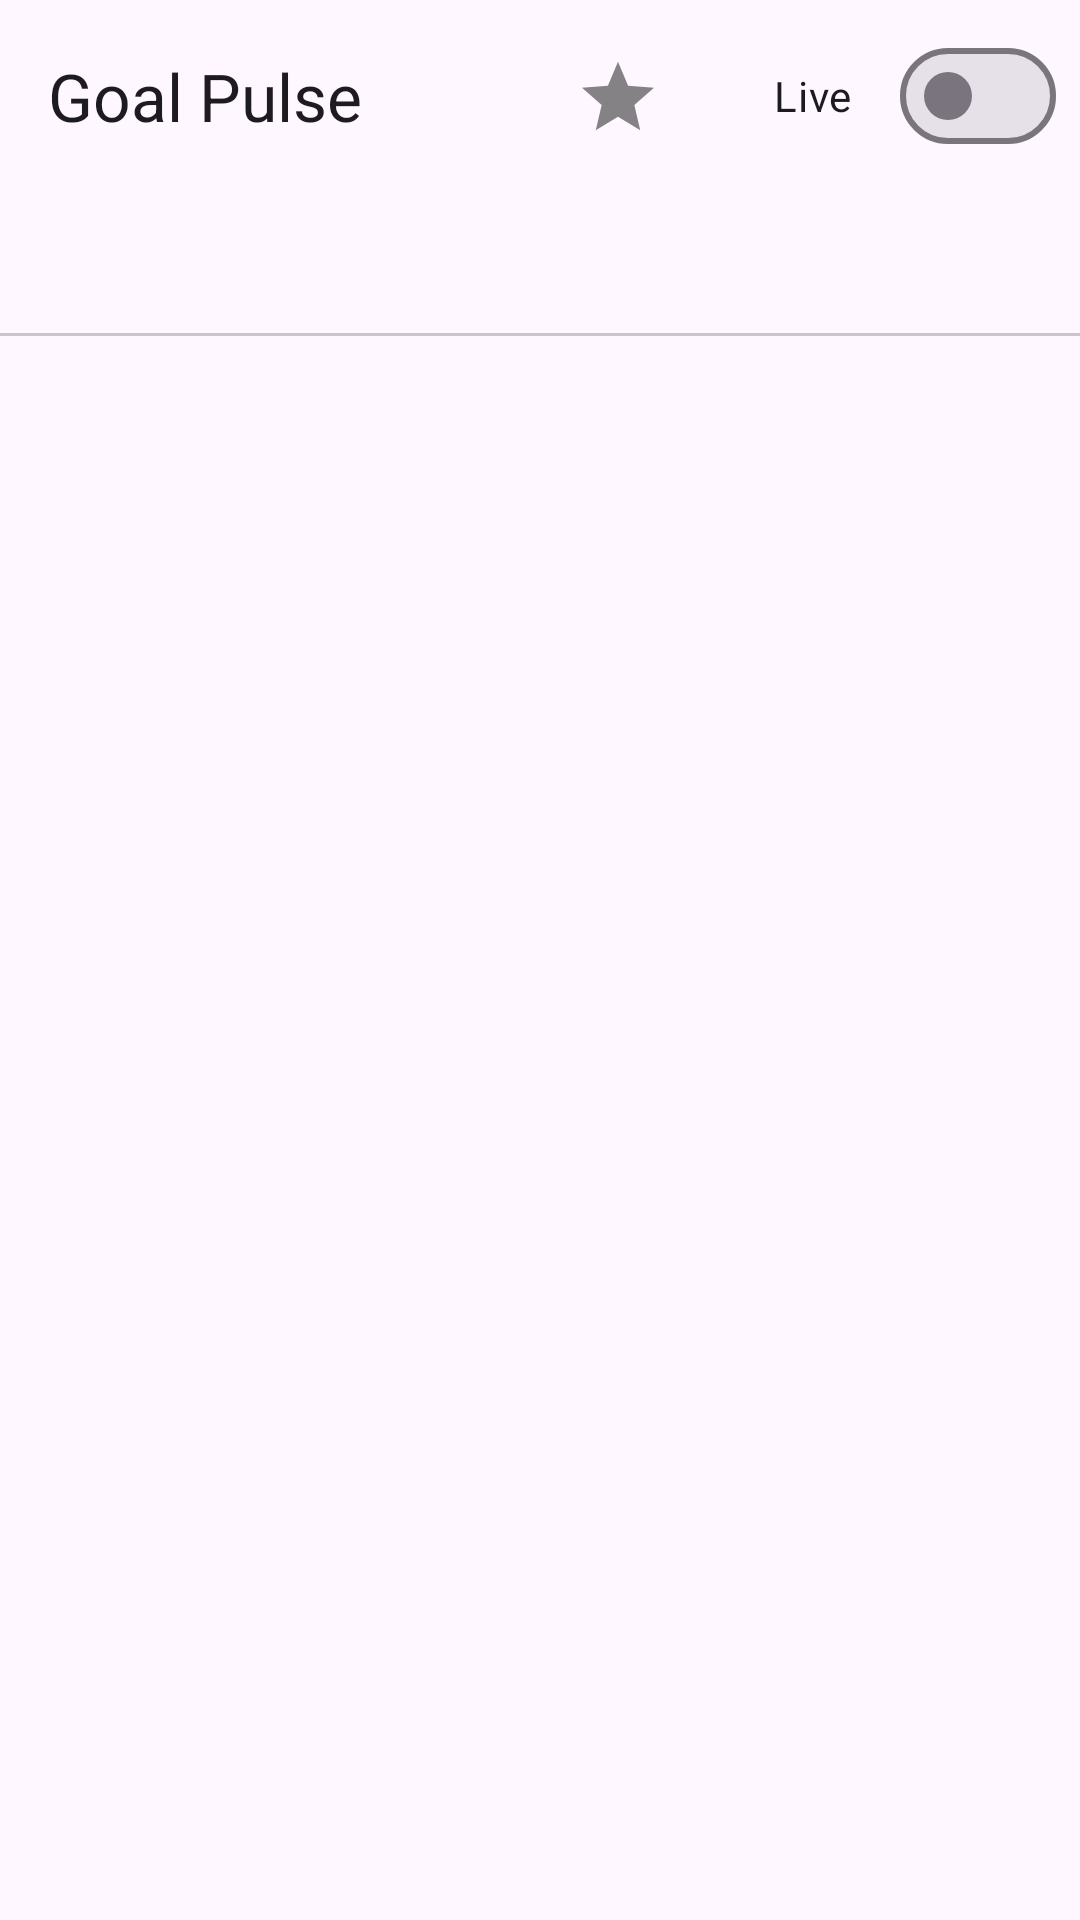

Named icons in this screenshot (1080w x 1920h) and their bounding boxes, [left=x1, top=y1, right=x2, bottom=y2]:
follow: [left=582, top=62, right=654, bottom=130]
